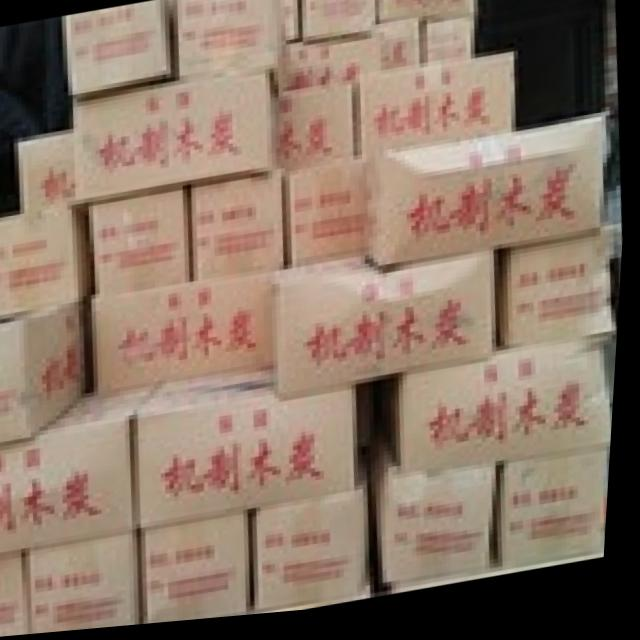box: (138, 374, 365, 531), (368, 127, 607, 273), (278, 259, 497, 399), (403, 350, 618, 477), (74, 78, 279, 206), (0, 393, 159, 554), (95, 276, 283, 398), (348, 61, 518, 162), (258, 478, 377, 619), (385, 462, 506, 595), (0, 303, 90, 443), (506, 462, 614, 577), (509, 236, 616, 351), (32, 536, 151, 635), (147, 518, 254, 627), (87, 193, 193, 297), (0, 207, 95, 316), (189, 182, 287, 285), (66, 4, 171, 97), (287, 164, 368, 274), (173, 0, 283, 80), (275, 90, 355, 178), (275, 40, 382, 98), (20, 130, 75, 214), (297, 0, 376, 48), (0, 549, 35, 638), (379, 0, 479, 31), (419, 25, 476, 71), (380, 25, 420, 77), (281, 0, 299, 45)
